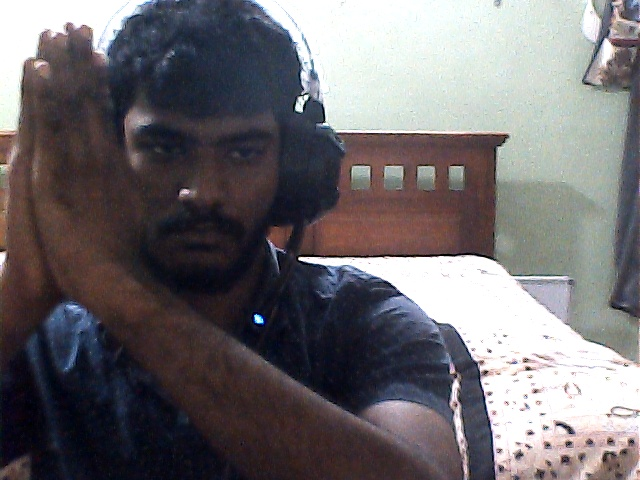Sign: (3, 16, 146, 329)
